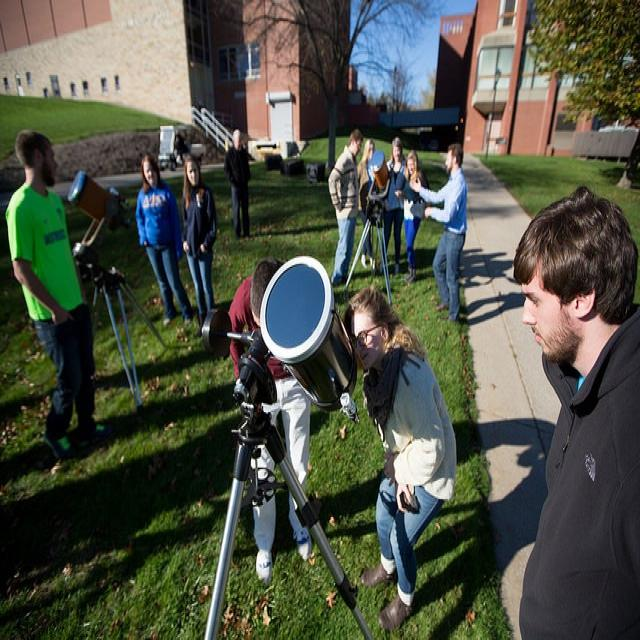body: (247, 409, 566, 640), (506, 174, 639, 638), (338, 284, 460, 636), (2, 124, 116, 464), (227, 256, 314, 586), (389, 234, 529, 334), (133, 147, 197, 333), (407, 141, 470, 325), (179, 153, 219, 339), (326, 126, 364, 286), (392, 146, 430, 284), (377, 136, 408, 276), (221, 126, 253, 243), (355, 138, 377, 273), (169, 126, 193, 166)
